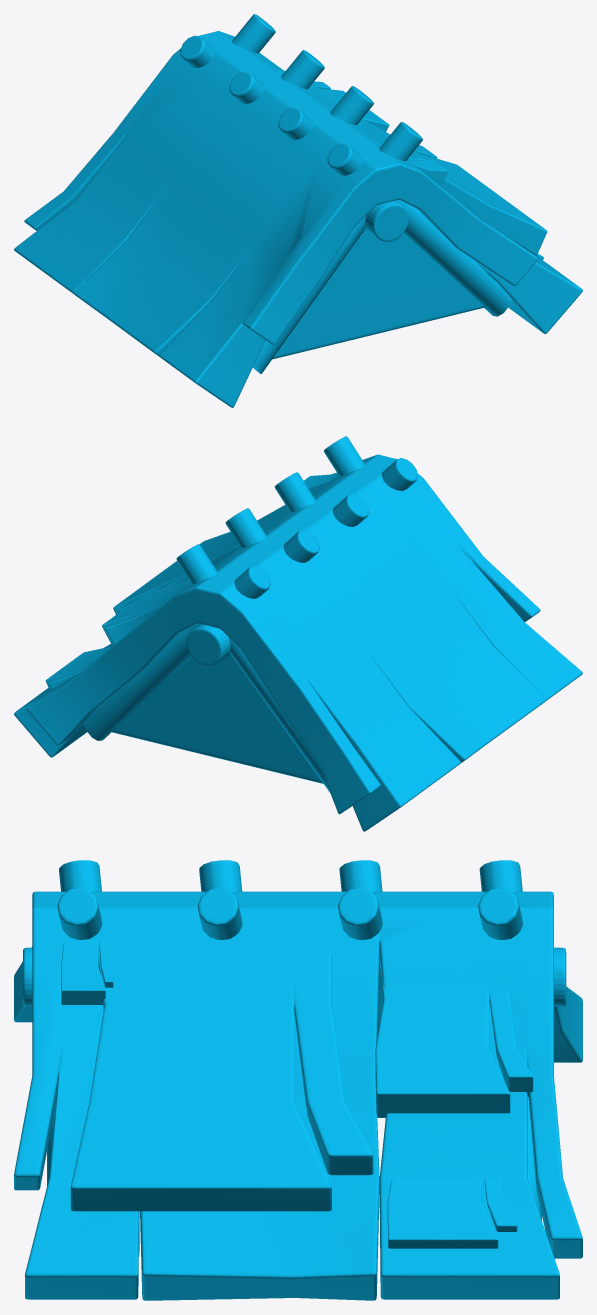
File: SM_Clay_Roof_01.fbx
The picture shows the model from 3 angles, top to bottom: view 1: azimuth 30°, elevation 25°; view 2: azimuth 150°, elevation 25°; view 3: azimuth 270°, elevation 25°; orthographic projection. The views are drawn at different scales.
Visible parts, largest first — view 1: SM_Clay_Roof_01; view 2: SM_Clay_Roof_01; view 3: SM_Clay_Roof_01.
Boxes of the visible parts, x1,y1,x2,y2 form: SM_Clay_Roof_01: (14,14,582,407); SM_Clay_Roof_01: (14,436,582,831); SM_Clay_Roof_01: (14,860,582,1300).
Size of the model in its own units: 2.87 by 1.61 by 2.54.
